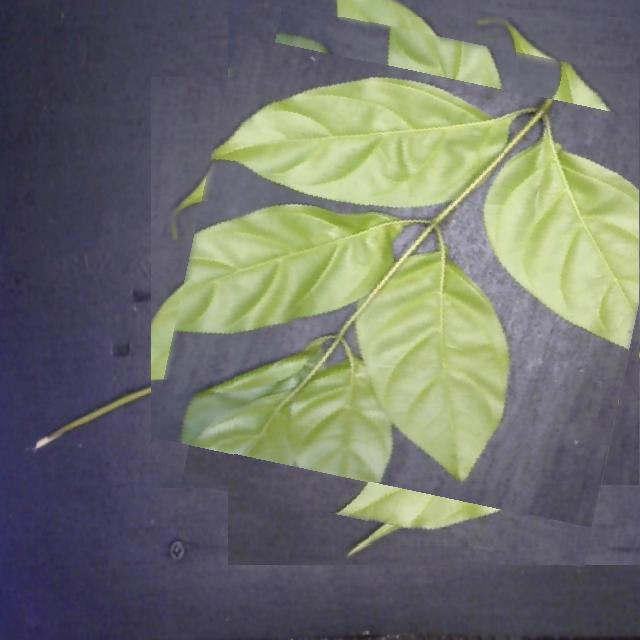biodegradable: (166, 17, 640, 546)
